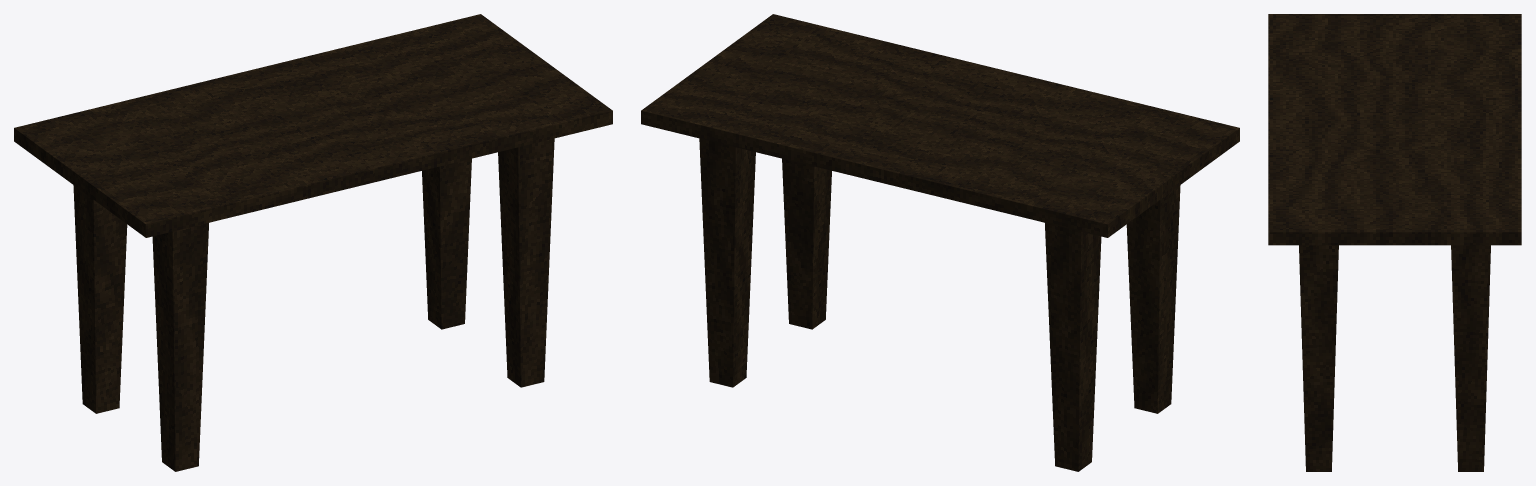
The picture shows the model from 3 angles, left to right: view 1: azimuth 30°, elevation 25°; view 2: azimuth 150°, elevation 25°; view 3: azimuth 270°, elevation 25°; orthographic projection. The views are drawn at different scales.
Visible parts, largest first — view 1: Cube.001; view 2: Cube.001; view 3: Cube.001.
Part boxes in pixels (x1,y1,x2,y2): Cube.001: (14,14,612,471); Cube.001: (641,14,1239,471); Cube.001: (1268,14,1521,471).
Bounding box in the file's own units: 1.43 × 0.7988 × 0.6985.
1 material, 1 textured.
